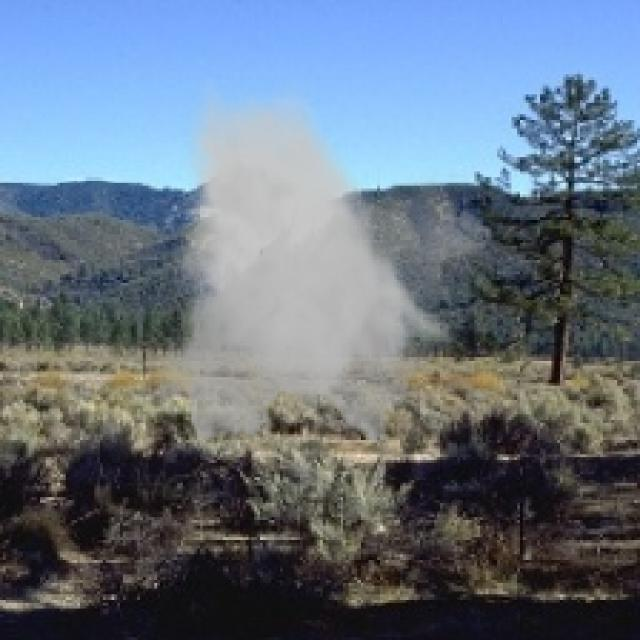smoke: (146, 77, 494, 452)
